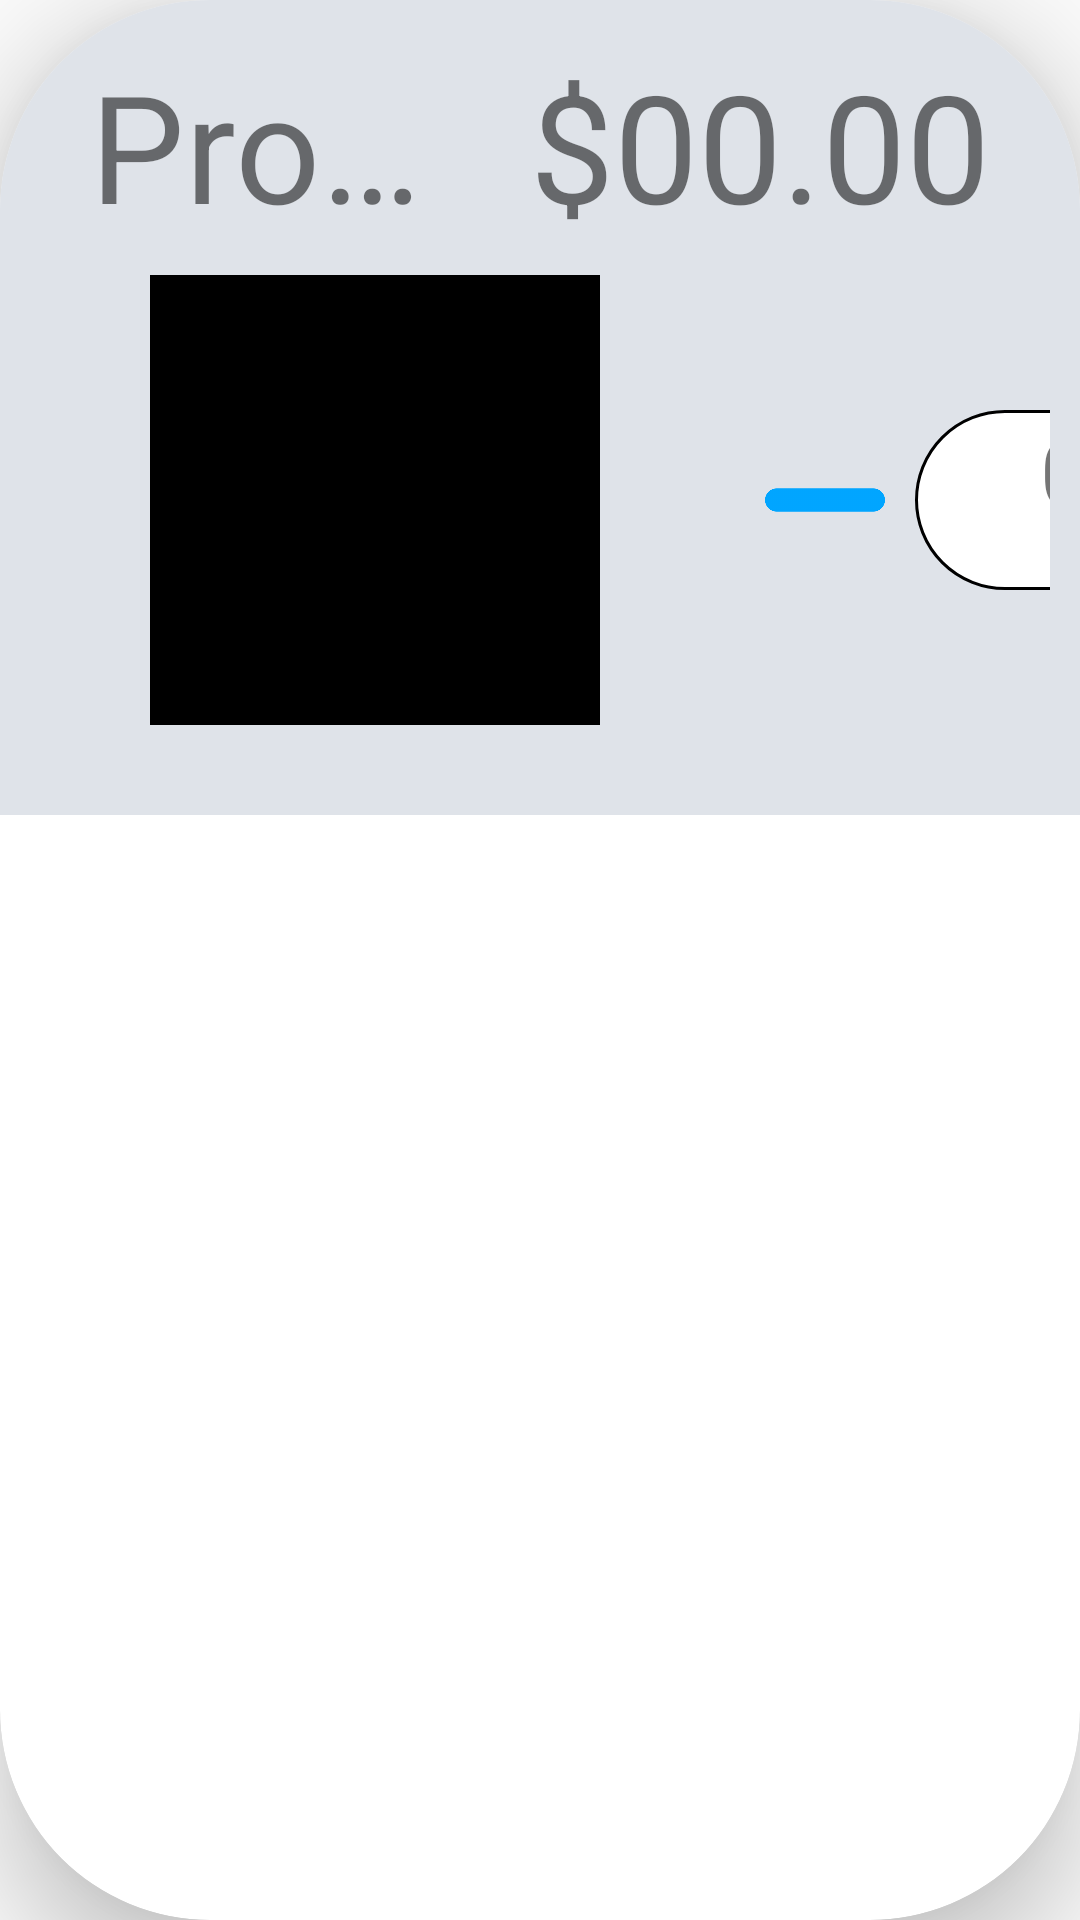

Screen size 1080px x 1920px. Icon name, then its center in pixels as [x,y]:
minus: [825,500]
